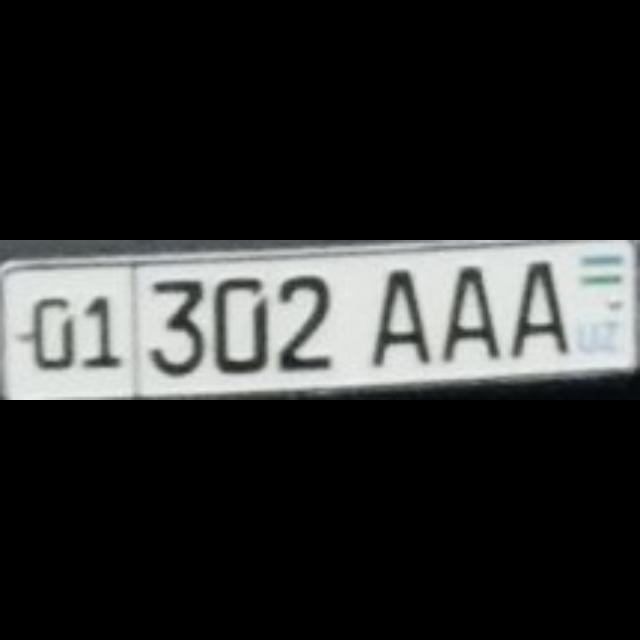0: (208, 272, 262, 368), (30, 294, 68, 364)
1: (77, 294, 116, 364)
2: (274, 270, 328, 368)
3: (146, 276, 200, 374)
A: (368, 267, 426, 365), (508, 258, 566, 352), (440, 264, 494, 358)
